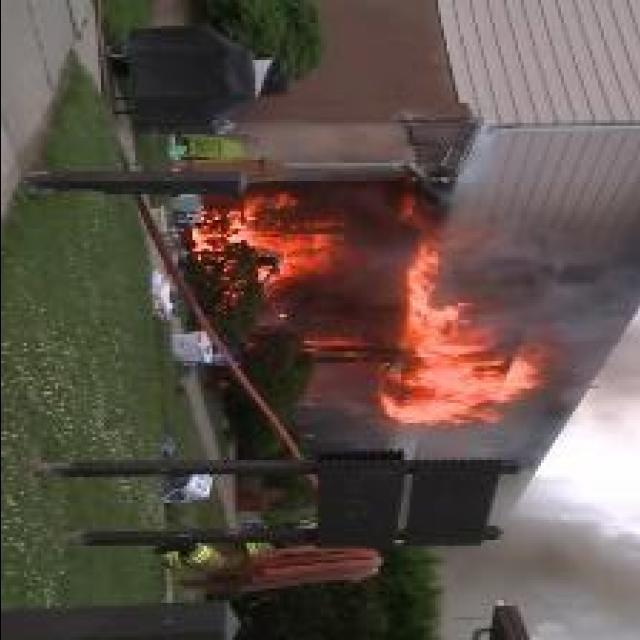Fire: (376, 237, 556, 429), (187, 193, 359, 301)
